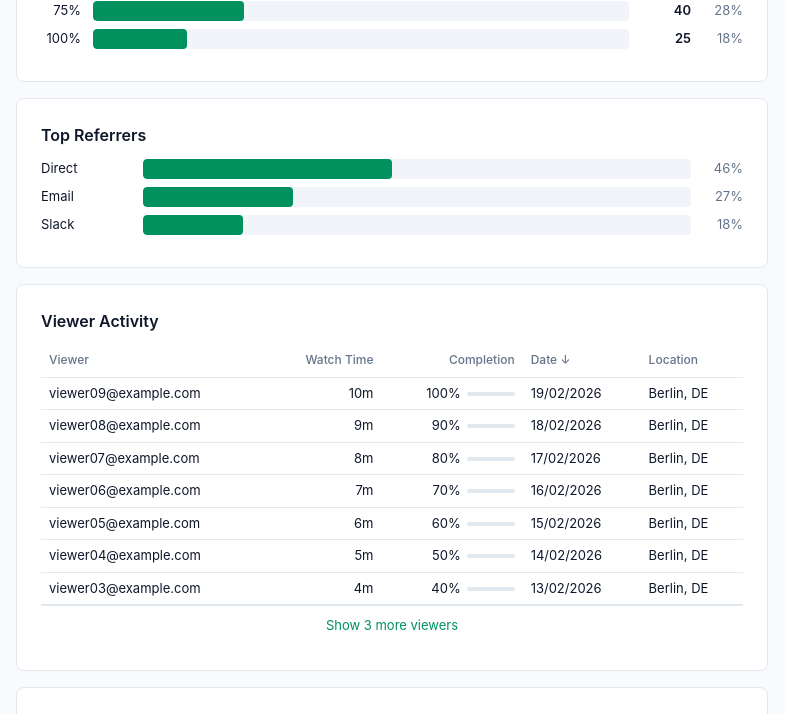
Test: Analytics › Video analytics view › sorts viewer table by column click
The image size is (785, 714).
(page scrolled)
Expected: the heading "Viewer Activity" is shown, [41, 310, 159, 330]
Expected: the cell "viewer09@example.com" is shown, [41, 377, 268, 410]
Step 1. Click the column heading "Completion" → (452, 361), box [382, 344, 523, 377]
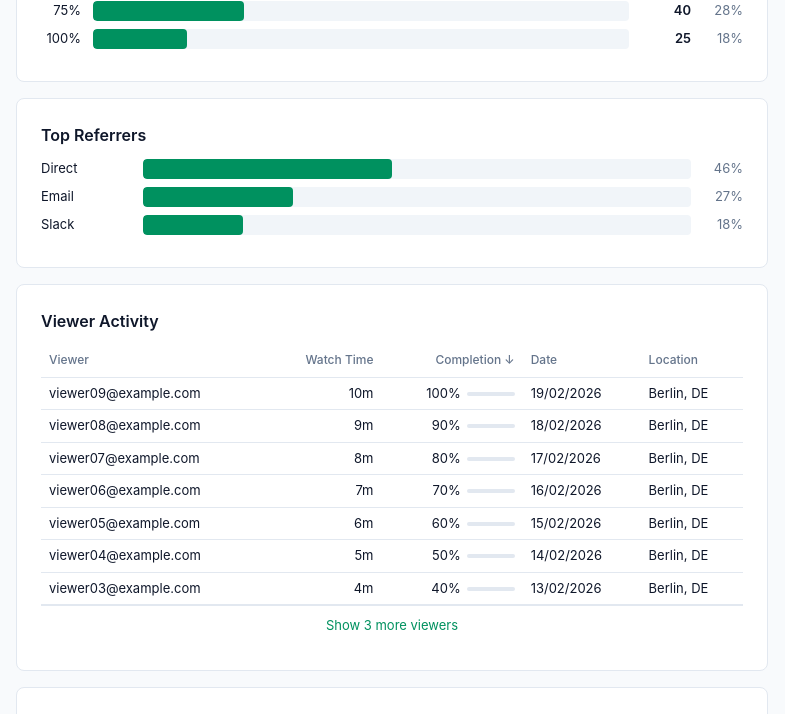
Expected: the cell "viewer09@example.com" is shown, [41, 377, 268, 410]
Step 2. Click the column heading "Completion ↓" → (452, 361), box [382, 344, 523, 377]
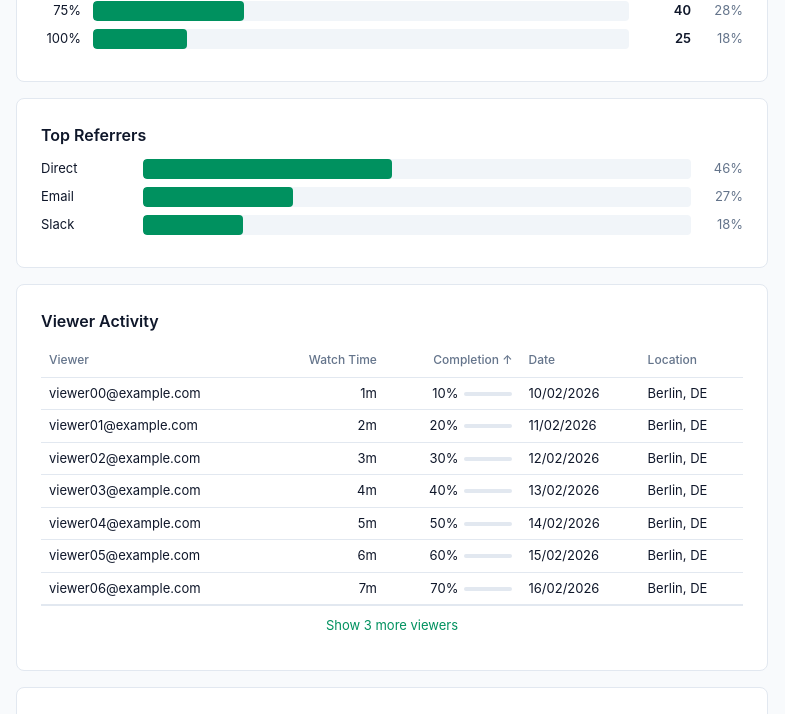
Expected: the cell "viewer00@example.com" is shown, [41, 377, 270, 410]
